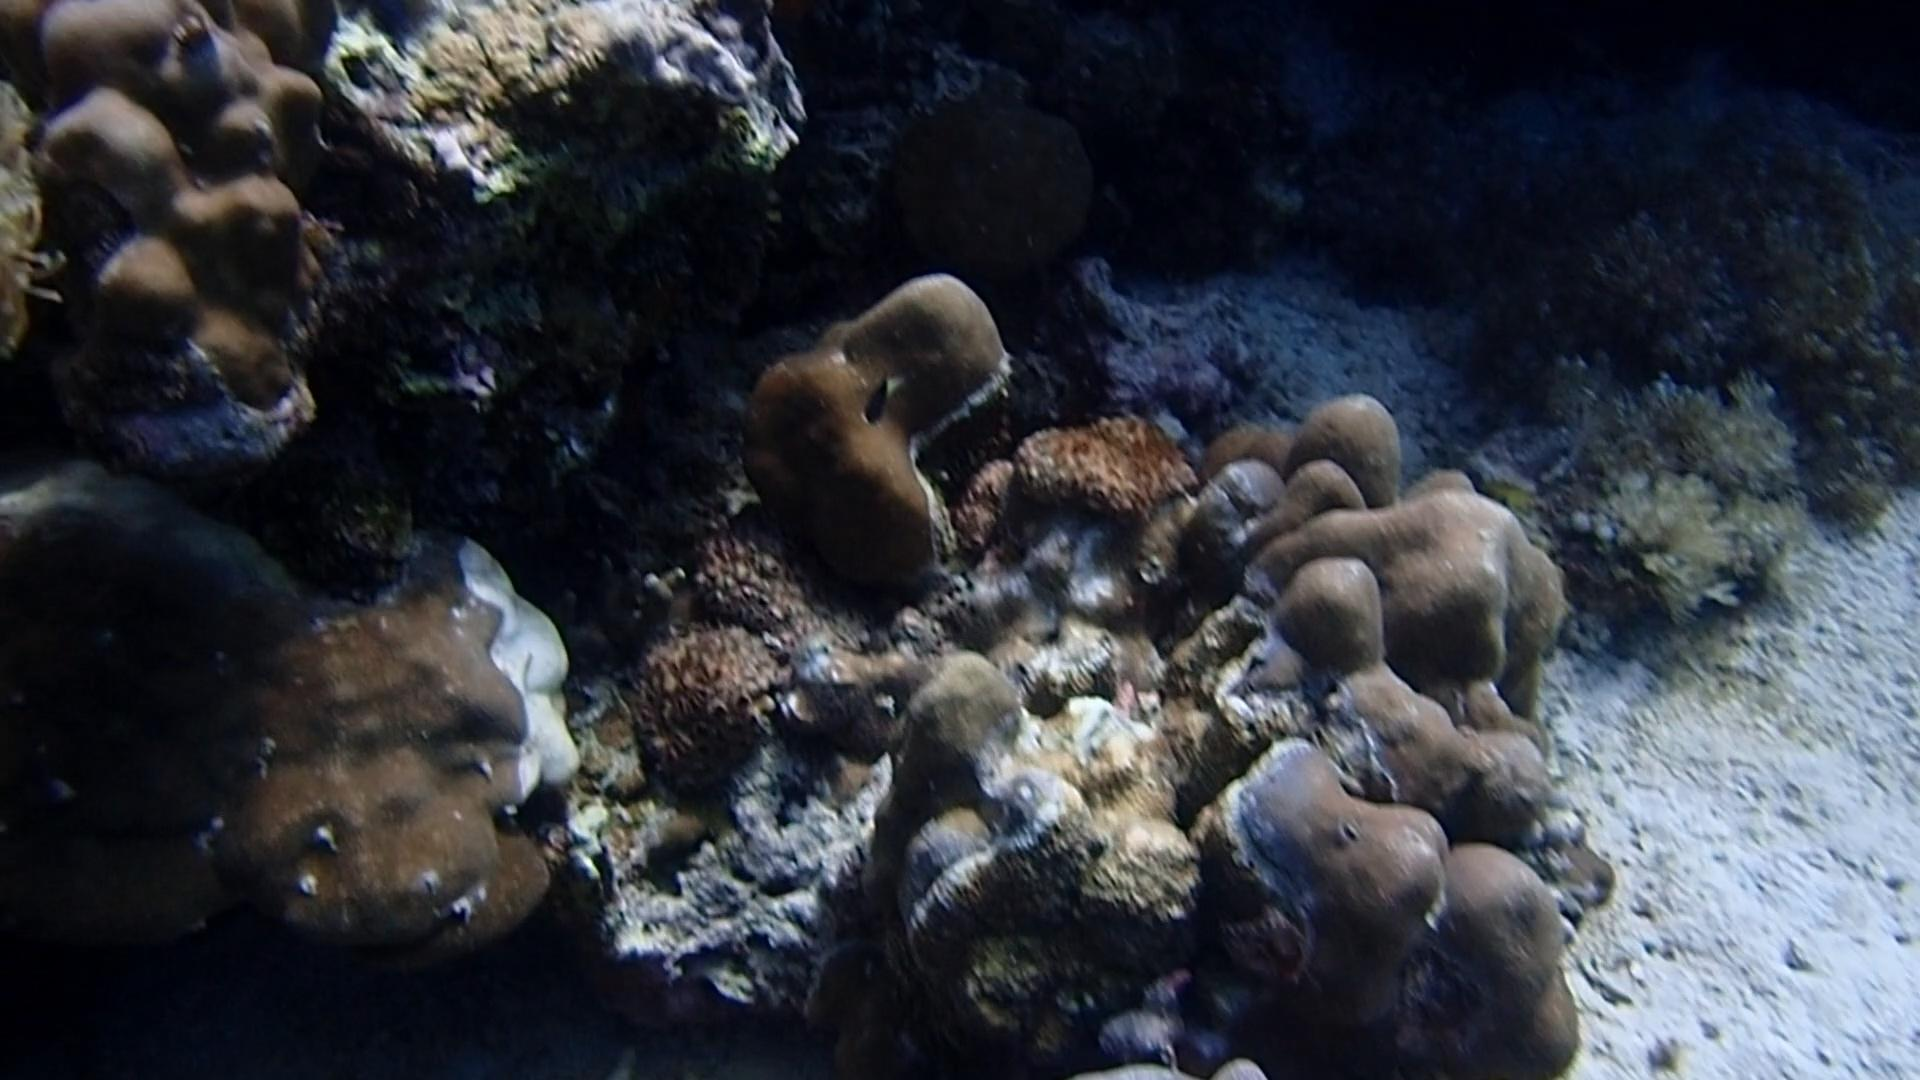Yellow Tail: (851, 368, 911, 443)
